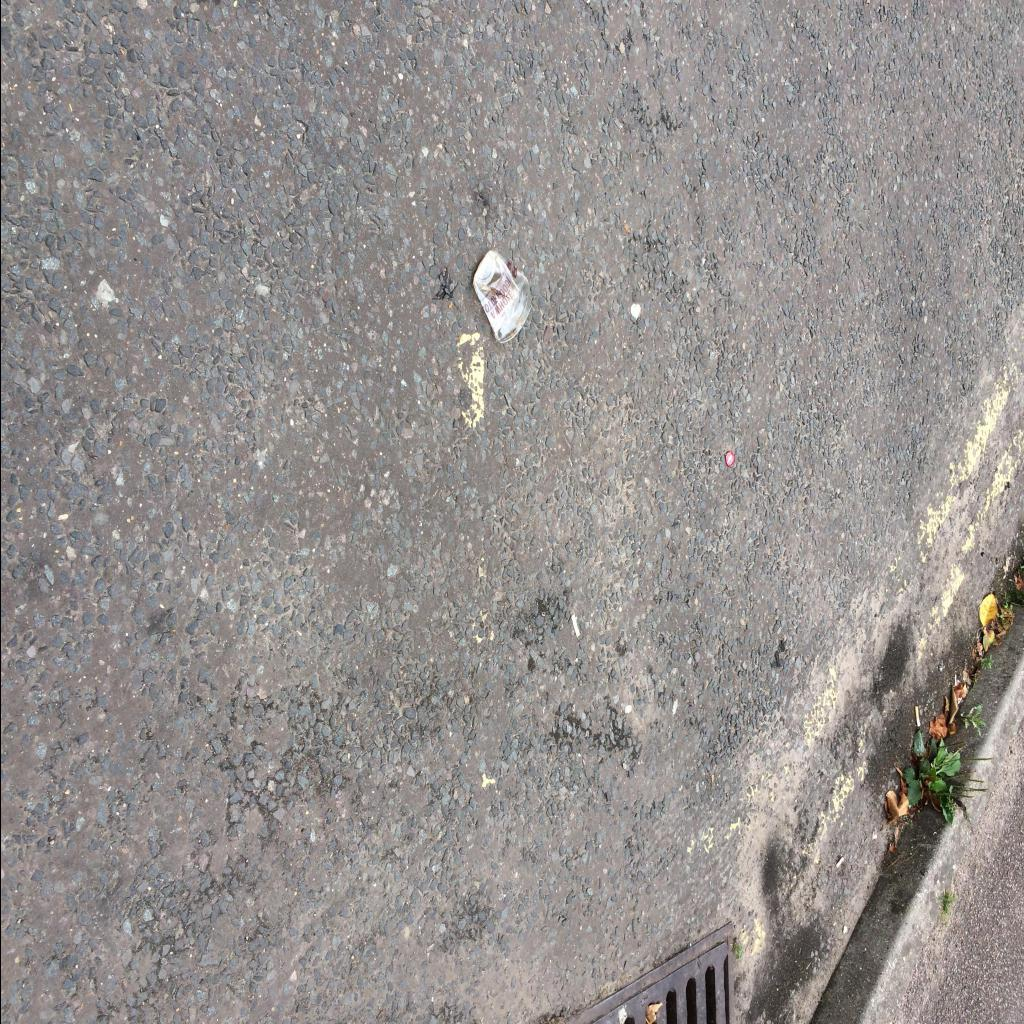Cigarette: (914, 707, 920, 727), (834, 858, 844, 870)
Disposable plastic cup: (472, 250, 531, 344)
Other plastic bottle: (724, 451, 734, 467)
